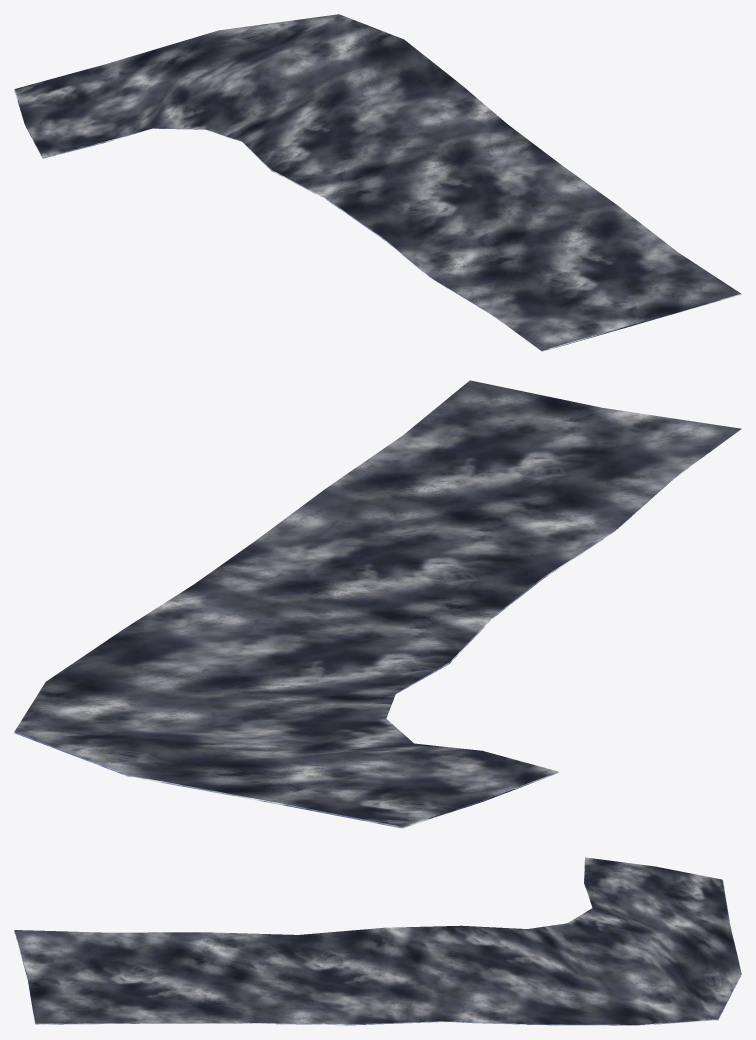
The model's file is LONE_MOUNTAIN_WATERFALLS_MAINWATER_TREASURY03.fbx.
3 views of the same model, one above another, from view 1: azimuth 30°, elevation 25°; view 2: azimuth 150°, elevation 25°; view 3: azimuth 270°, elevation 25° (orthographic). The views are drawn at different scales.
Parts seen in each view (by area): view 1: LONE_MOUNTAIN_WATERFALLS_MAINWATER_TREASURY03; view 2: LONE_MOUNTAIN_WATERFALLS_MAINWATER_TREASURY03; view 3: LONE_MOUNTAIN_WATERFALLS_MAINWATER_TREASURY03.
Boxes of the visible parts, bbox=[...] form: LONE_MOUNTAIN_WATERFALLS_MAINWATER_TREASURY03: bbox=[14, 14, 741, 351]; LONE_MOUNTAIN_WATERFALLS_MAINWATER_TREASURY03: bbox=[14, 380, 741, 828]; LONE_MOUNTAIN_WATERFALLS_MAINWATER_TREASURY03: bbox=[14, 857, 741, 1025].
Size of the model in its own units: 94406 by 1506 by 172749.
2 materials, 2 textured.
